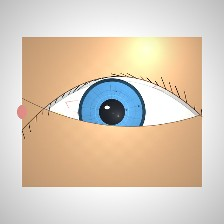pinguecula_lesion: (30, 98, 77, 135)
